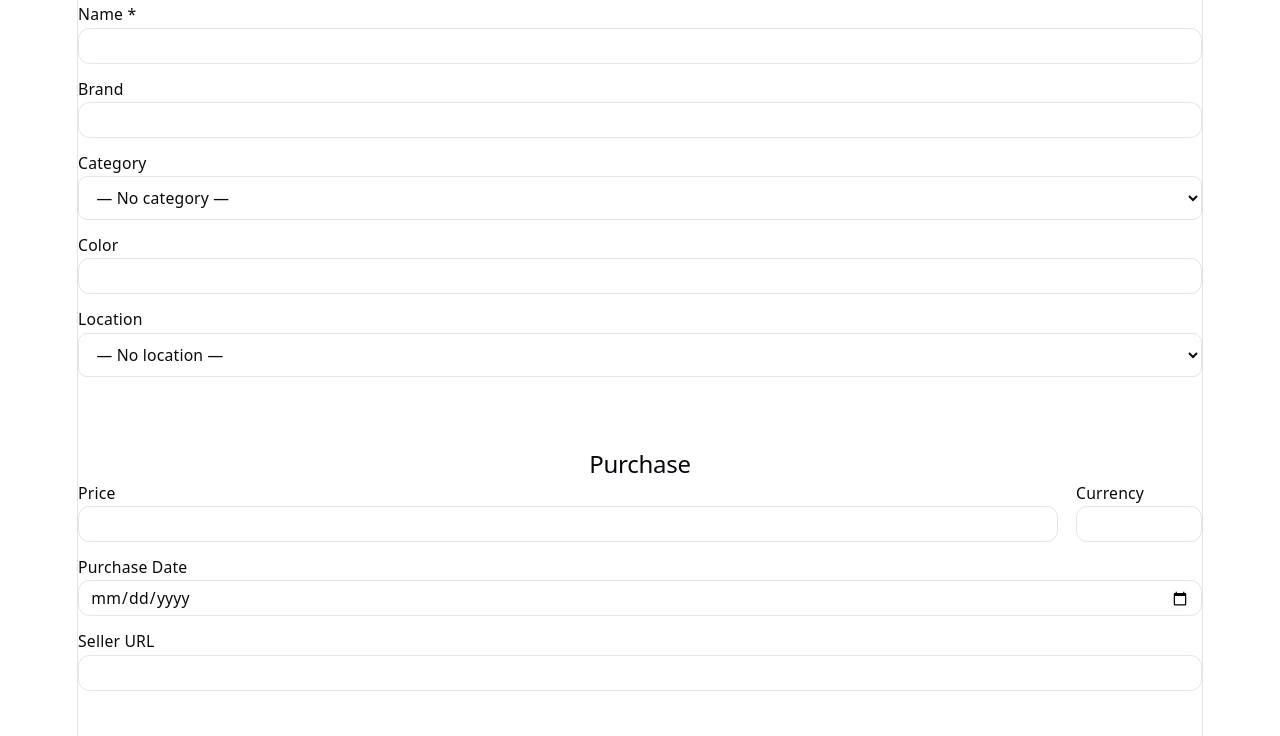
Test: ItemForm › ItemForm should update field hints when category is changed
Select "Jackets" in the dropdown labelled "Category" at [640, 198], box [78,176,1202,220]
(page scrolled)
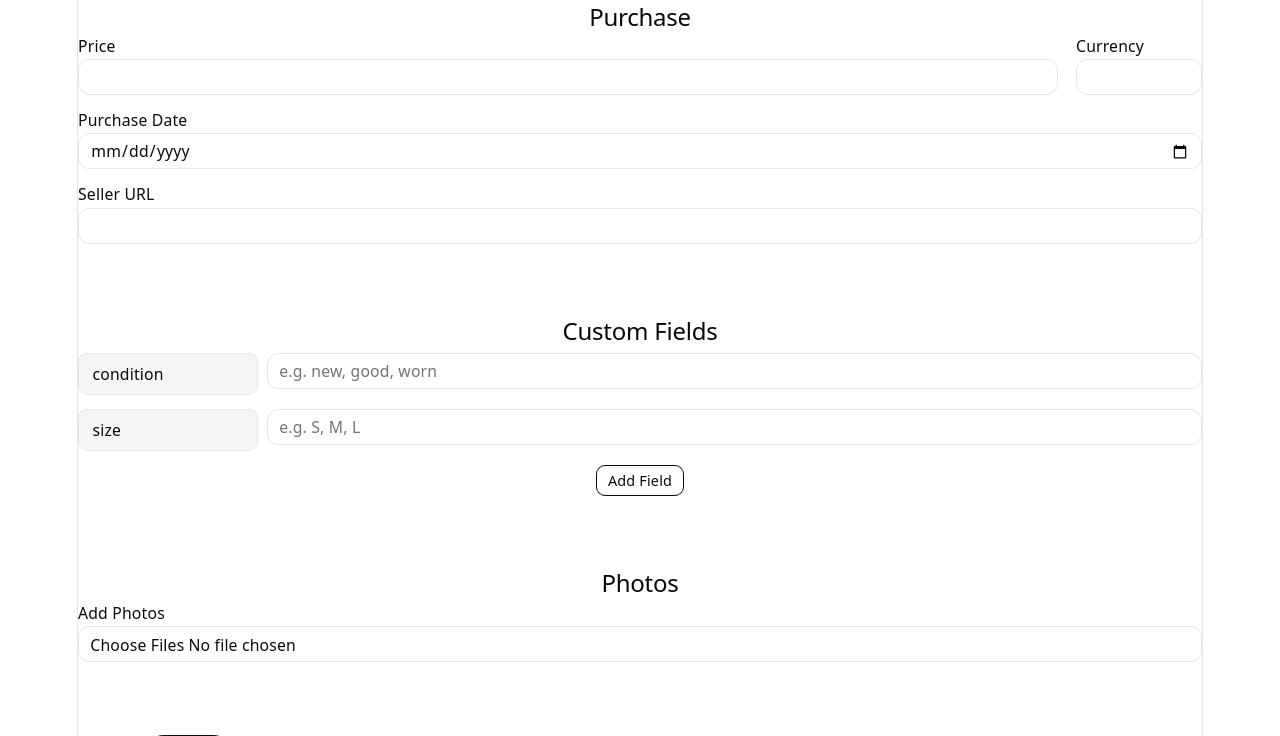
Expected: the field showing "condition" is shown, [78,353,258,395]
Expected: the field showing "size" is shown, [78,409,258,451]
